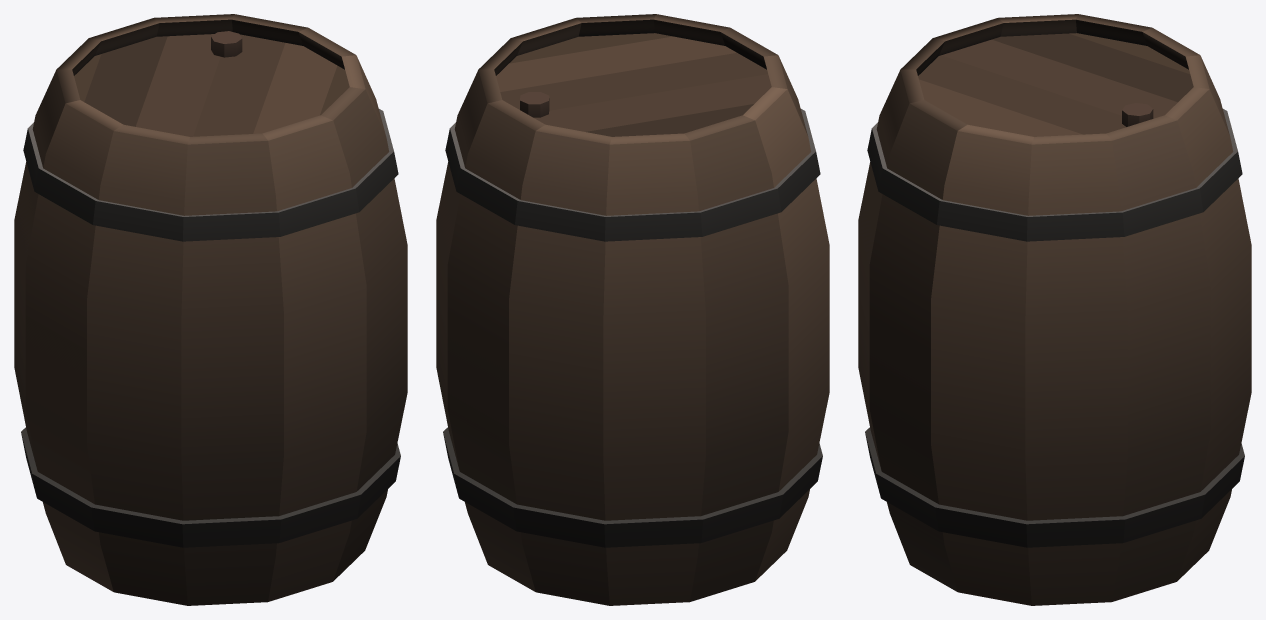
File: human-containers-wooden-barrel_v1.glb
3 views of the same model, side by side, from view 1: azimuth 30°, elevation 25°; view 2: azimuth 150°, elevation 25°; view 3: azimuth 270°, elevation 25° (orthographic).
Parts seen in each view (by area): view 1: Wooden Barrel; view 2: Wooden Barrel; view 3: Wooden Barrel.
Boxes of the visible parts, x1,y1,x2,y2 form: Wooden Barrel: (14,14,407,605); Wooden Barrel: (436,14,829,605); Wooden Barrel: (858,14,1251,605).
Bounding box in the file's own units: 0.6941 × 0.9 × 0.6941.
